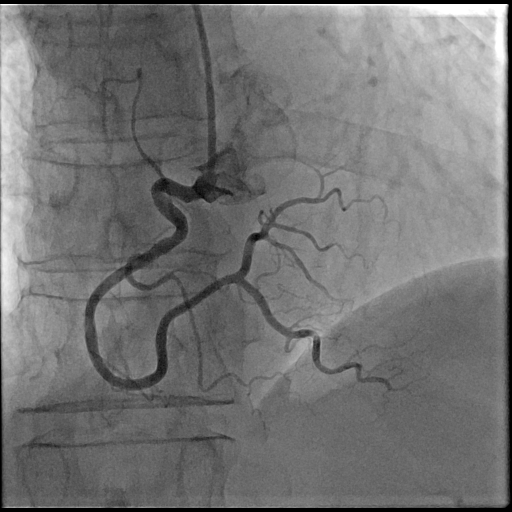RCA: (85, 178, 360, 390)
catherter: (193, 5, 217, 166)
